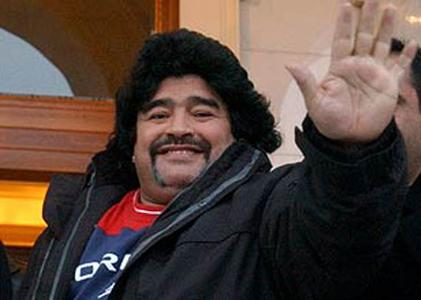person: (20, 1, 417, 300)
